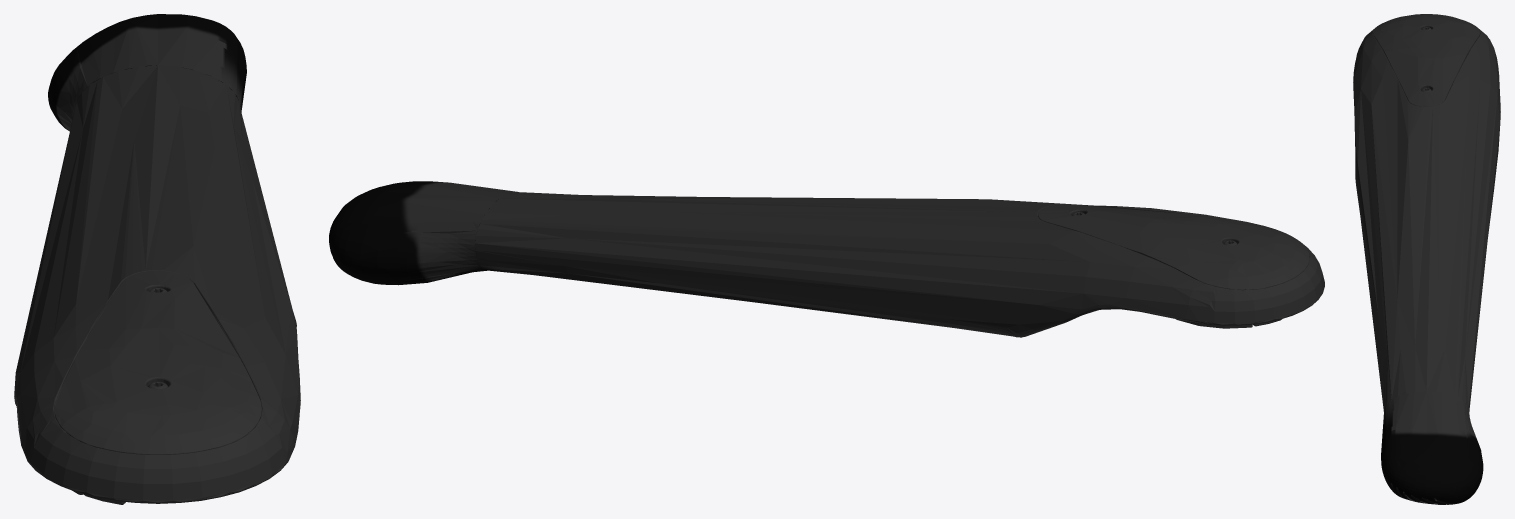
Rendered from arm-L4.obj.
The picture shows the model from 3 angles, left to right: view 1: azimuth 90°, elevation 25°; view 2: azimuth 150°, elevation 25°; view 3: azimuth 270°, elevation 25°; orthographic projection. The views are drawn at different scales.
Parts seen in each view (by area): view 1: arm-L4; view 2: arm-L4; view 3: arm-L4.
Part boxes in pixels (x1,y1,x2,y2): arm-L4: (14,14,300,504); arm-L4: (329,181,1324,337); arm-L4: (1353,14,1500,504).
Bounding box in the file's own units: 0.4369 × 0.0992 × 0.0776.
1 material, 1 textured.
